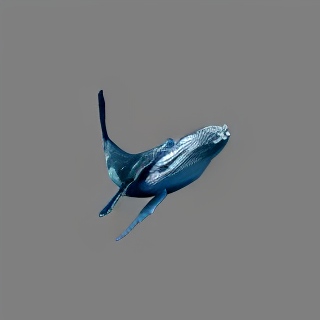Humpback whale: (95, 87, 233, 243)
